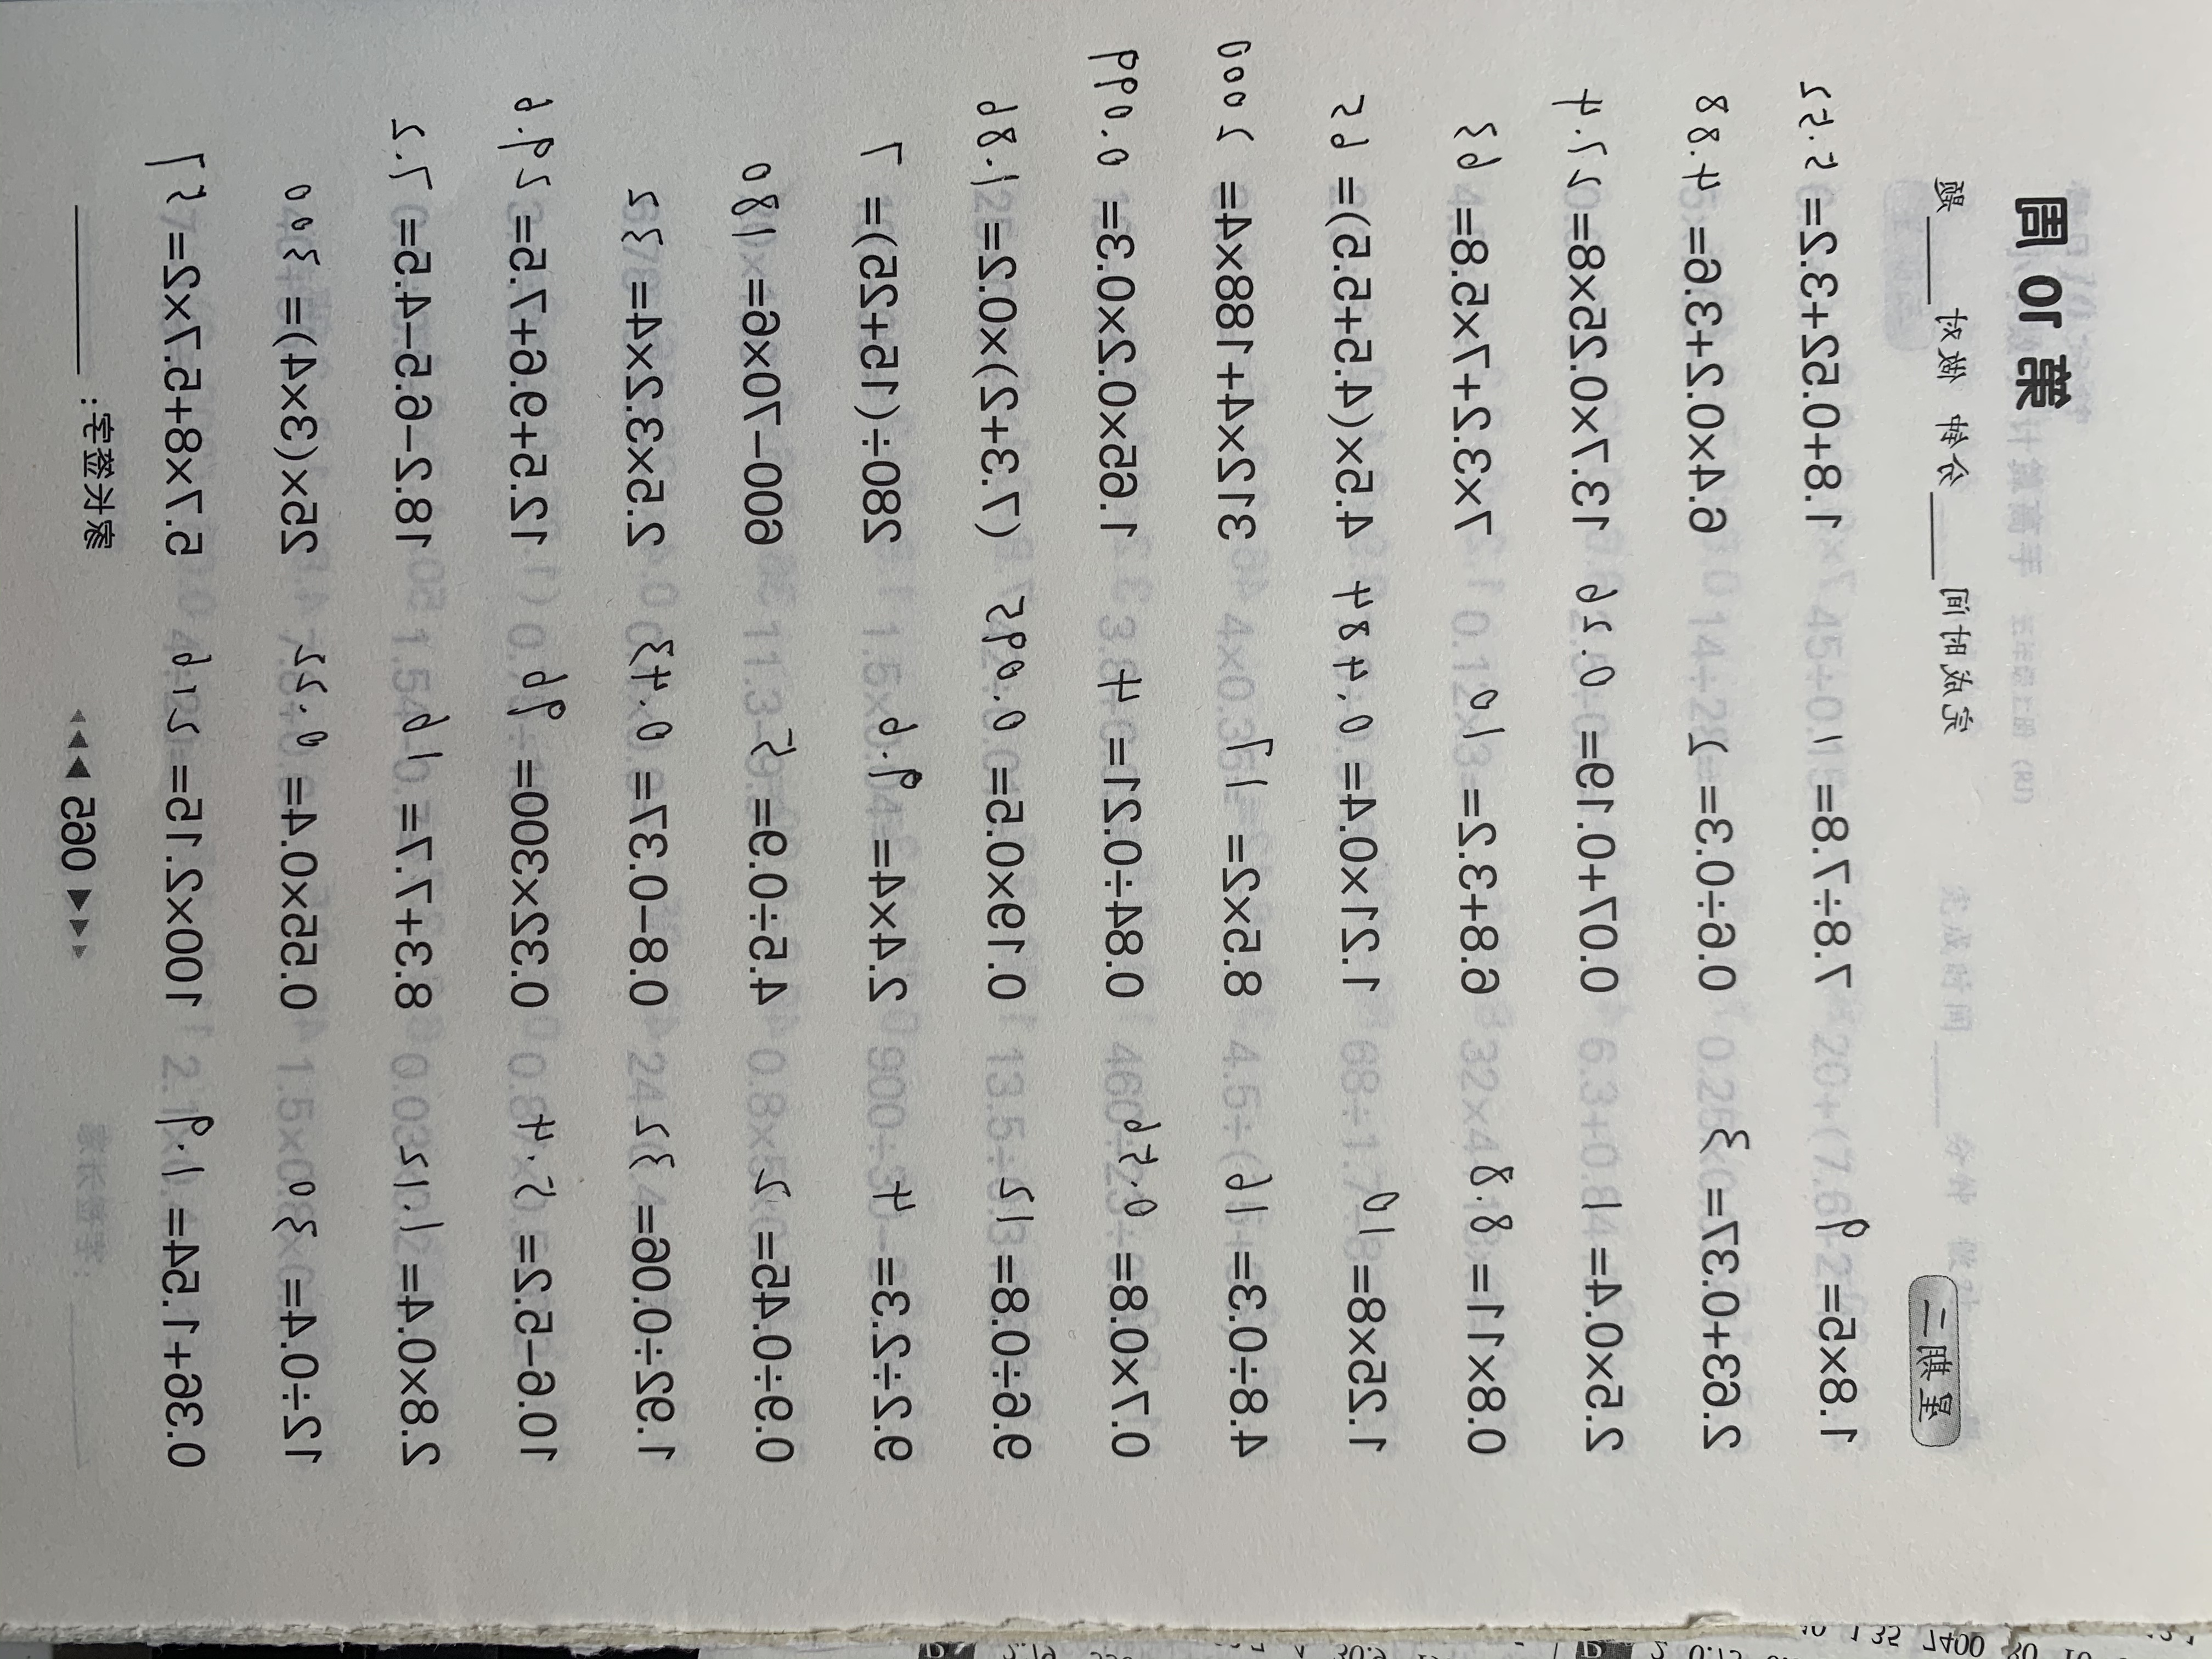equation: (56, 795, 730, 854), (103, 263, 716, 328), (118, 349, 730, 411), (145, 1319, 749, 1382), (111, 1236, 740, 1295), (122, 613, 730, 674), (188, 1493, 756, 1554), (115, 441, 712, 498), (118, 884, 730, 938), (49, 708, 733, 755), (766, 434, 1331, 490), (786, 880, 1346, 936), (148, 526, 733, 579), (1460, 1492, 1972, 1551), (172, 974, 733, 1028), (836, 1140, 1360, 1197), (202, 1063, 745, 1115), (874, 1225, 1353, 1284), (845, 1406, 1360, 1460), (855, 1493, 1360, 1547), (779, 615, 1338, 664), (228, 1412, 749, 1462), (1475, 1410, 1968, 1462), (1515, 1312, 1968, 1368), (1472, 1234, 1961, 1284), (941, 1312, 1357, 1371), (235, 1154, 740, 1201), (1493, 338, 1947, 390), (1472, 1145, 1958, 1194), (1479, 784, 1961, 833), (878, 795, 1346, 843), (941, 960, 1346, 1016), (1548, 697, 1954, 749), (1541, 516, 1958, 566), (907, 525, 1341, 572), (958, 1054, 1357, 1105), (1559, 875, 1965, 924), (1548, 1056, 1968, 1103), (1575, 605, 1951, 657), (1562, 964, 1965, 1012), (1615, 249, 1942, 307), (970, 701, 1350, 749), (967, 349, 1338, 397), (1588, 432, 1951, 479), (961, 263, 1331, 308)
